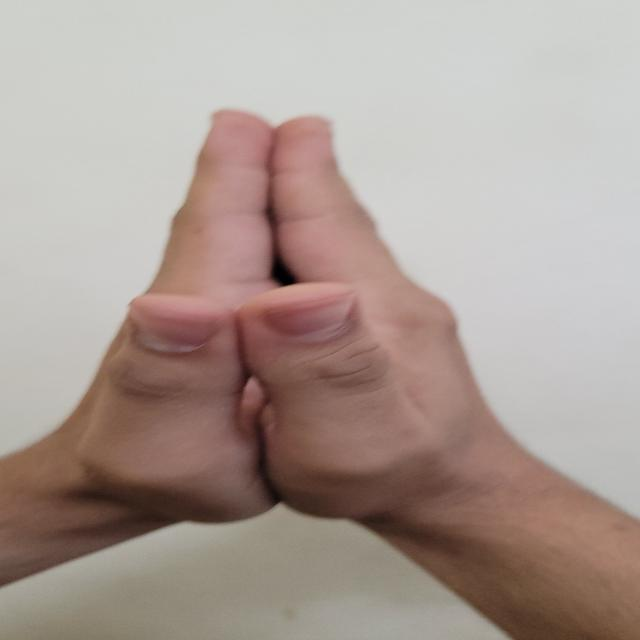Thank You: (44, 95, 560, 559)
